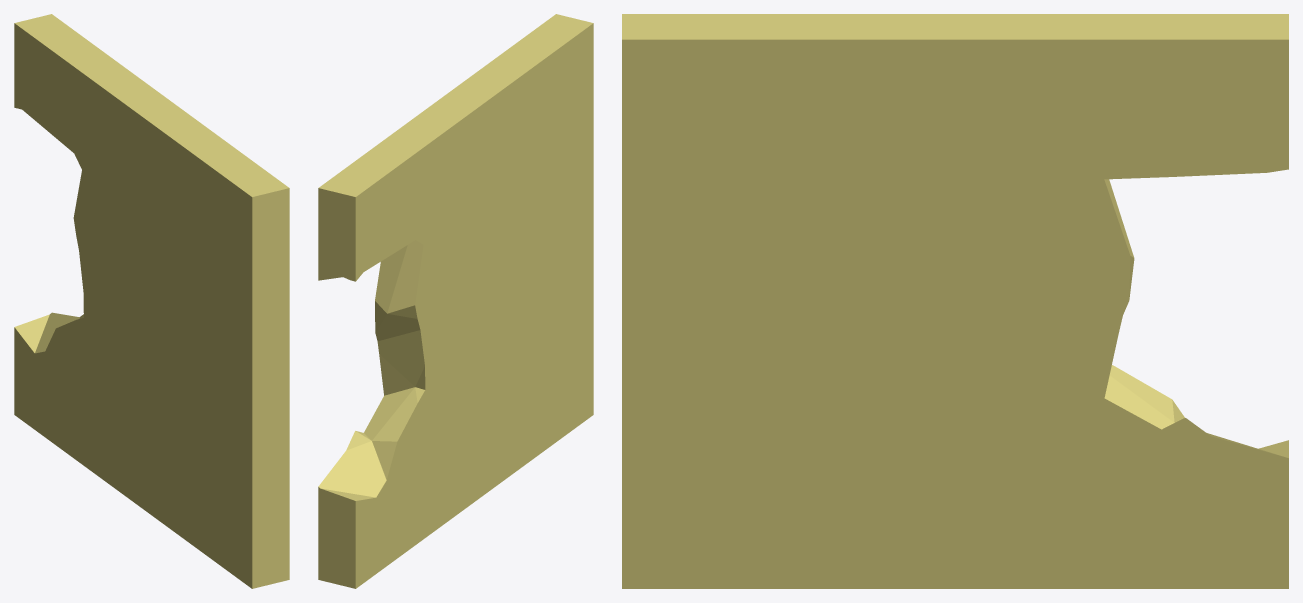
Rendered from BrokenWall2.glb.
3 views of the same model, side by side, from view 1: azimuth 30°, elevation 25°; view 2: azimuth 150°, elevation 25°; view 3: azimuth 270°, elevation 25° (orthographic). The views are drawn at different scales.
Parts seen in each view (by area): view 1: BrokenWall2; view 2: BrokenWall2; view 3: BrokenWall2.
Part boxes in pixels (box(x1,y1,x2,y2)): BrokenWall2: box(14, 14, 289, 588); BrokenWall2: box(318, 14, 593, 588); BrokenWall2: box(622, 14, 1288, 588).
Size of the model in its own units: 0.2 by 2 by 2.2.
